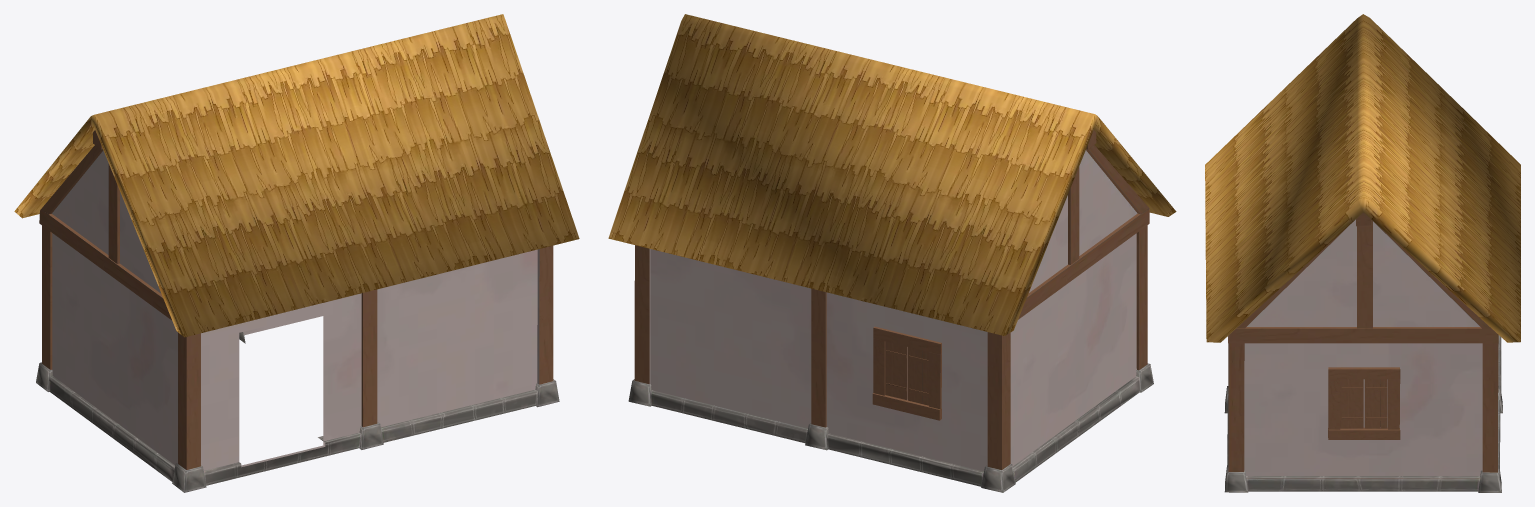
File: thatched_cottage.glb
3 views of the same model, side by side, from view 1: azimuth 30°, elevation 25°; view 2: azimuth 150°, elevation 25°; view 3: azimuth 270°, elevation 25° (orthographic). The views are drawn at different scales.
Parts seen in each view (by area): view 1: roof, walls; view 2: roof, walls; view 3: roof, walls.
Boxes of the visible parts, <box> form: roof: <box>14,14,579,337</box>; walls: <box>36,225,559,492</box>; roof: <box>608,14,1176,335</box>; walls: <box>628,225,1153,492</box>; roof: <box>1205,14,1520,343</box>; walls: <box>1224,335,1502,492</box>.
Bounding box in the file's own units: 7.3 × 5.6 × 5.28.
1 material, 1 textured.
